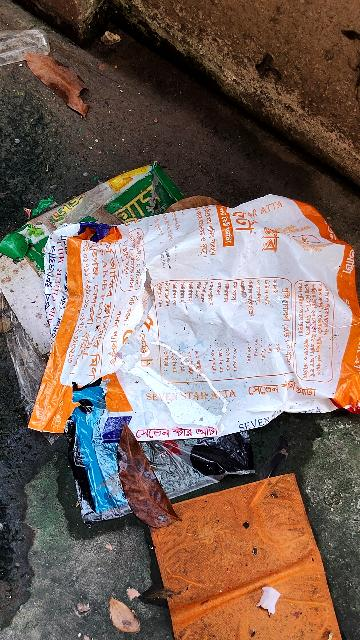packet: (25, 202, 360, 432)
